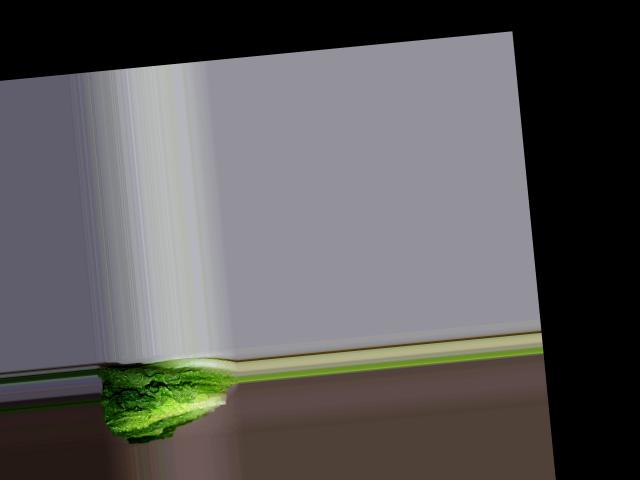lettuce: (95, 350, 235, 437)
